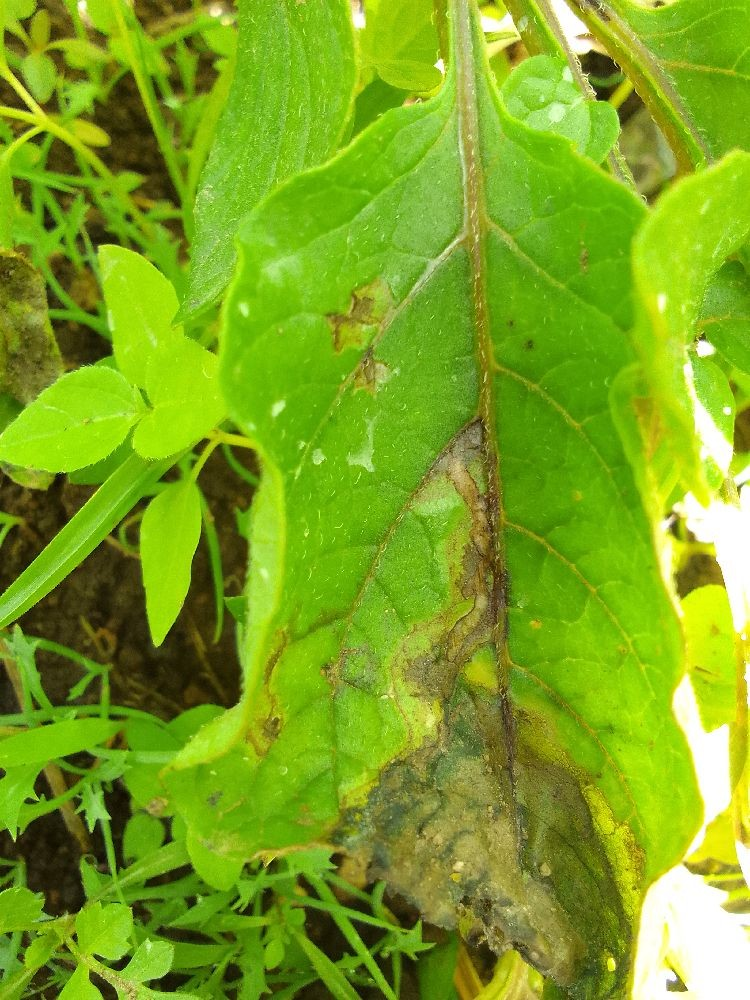late_blight: (317, 389, 598, 999), (0, 405, 294, 754), (0, 784, 146, 931), (0, 307, 125, 417)
